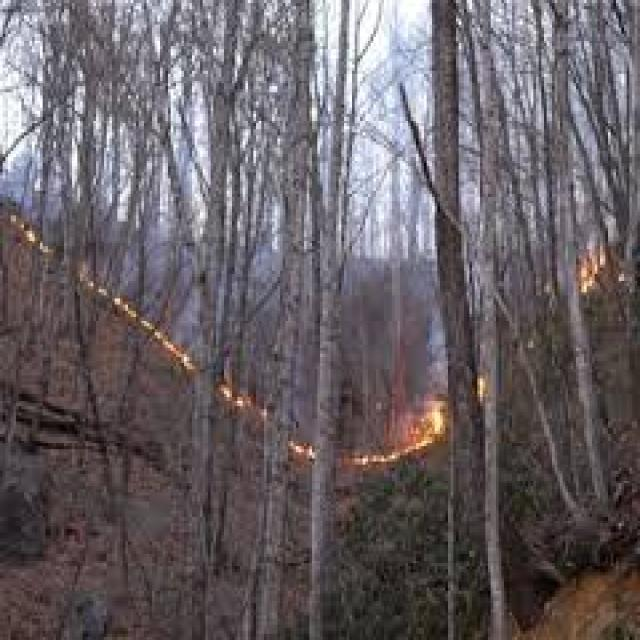Fire: (346, 410, 448, 472), (122, 303, 202, 370), (2, 207, 54, 260), (214, 384, 264, 422), (578, 252, 602, 294), (290, 444, 314, 462)
